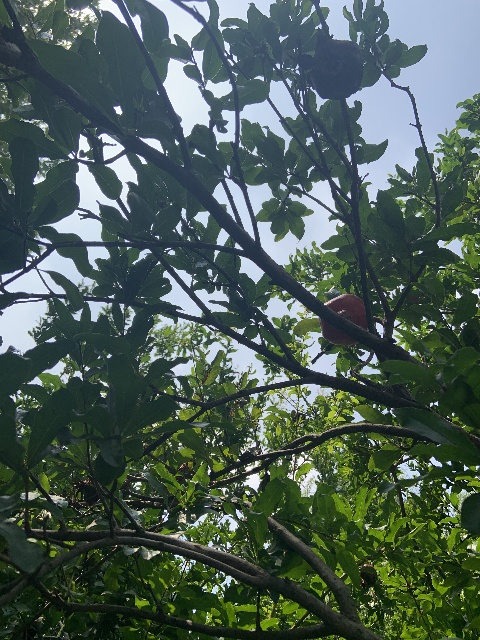ripe: (318, 293, 367, 345)
